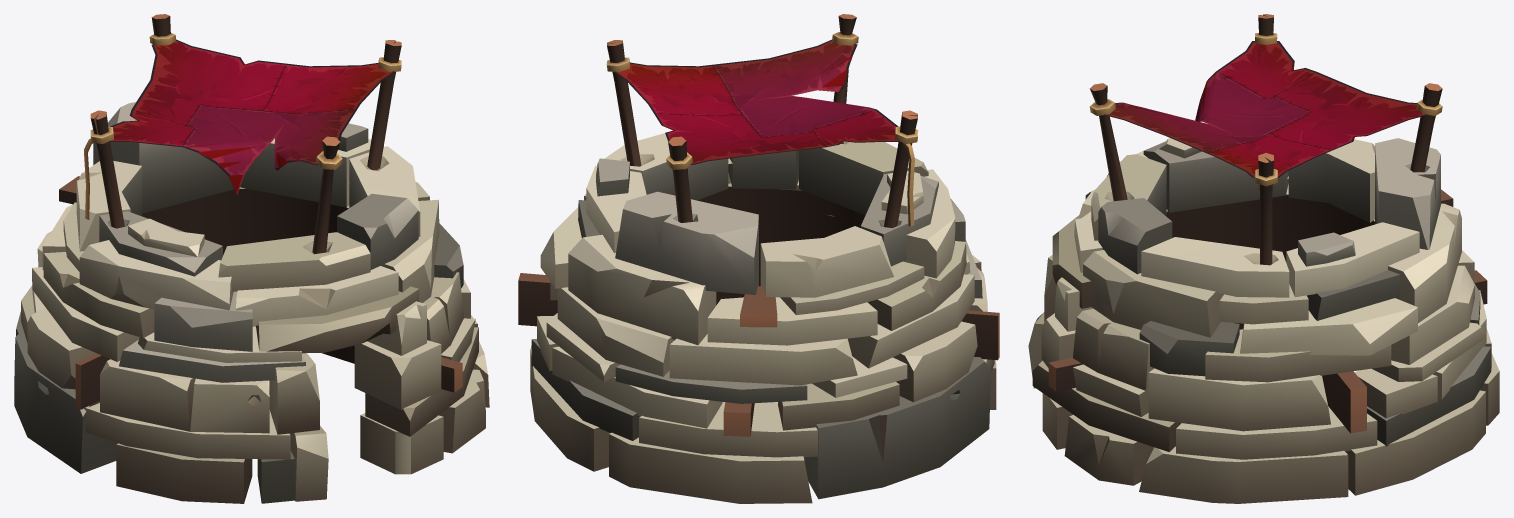
Rendered from Hut_1B.fbx.
3 renders of one model, left to right at view 1: azimuth 30°, elevation 25°; view 2: azimuth 150°, elevation 25°; view 3: azimuth 270°, elevation 25°, orthographic.
Parts seen in each view (by area): view 1: Hut_1B; view 2: Hut_1B; view 3: Hut_1B.
Part boxes in pixels (x1,y1,x2,y2): Hut_1B: (14, 14, 489, 503); Hut_1B: (518, 14, 999, 503); Hut_1B: (1028, 14, 1499, 503).
Size of the model in its own units: 589 by 451 by 601.
